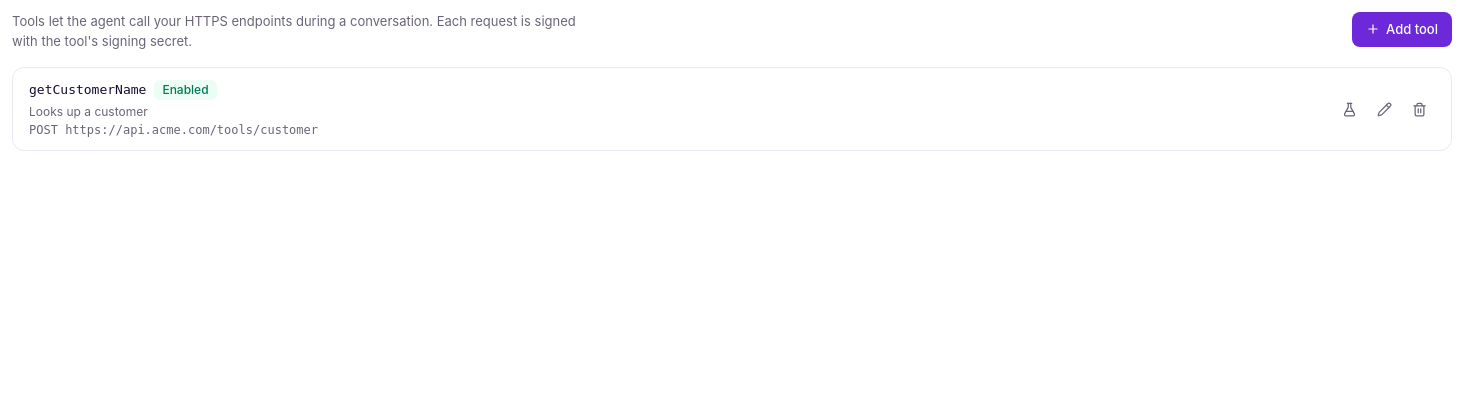
Test: ToolsPanel test call › refuses arguments that are not a JSON object
The image size is (1464, 406).
Click the button named "Test getCustomerName" at point(1350, 109), box [1334,94,1365,124]
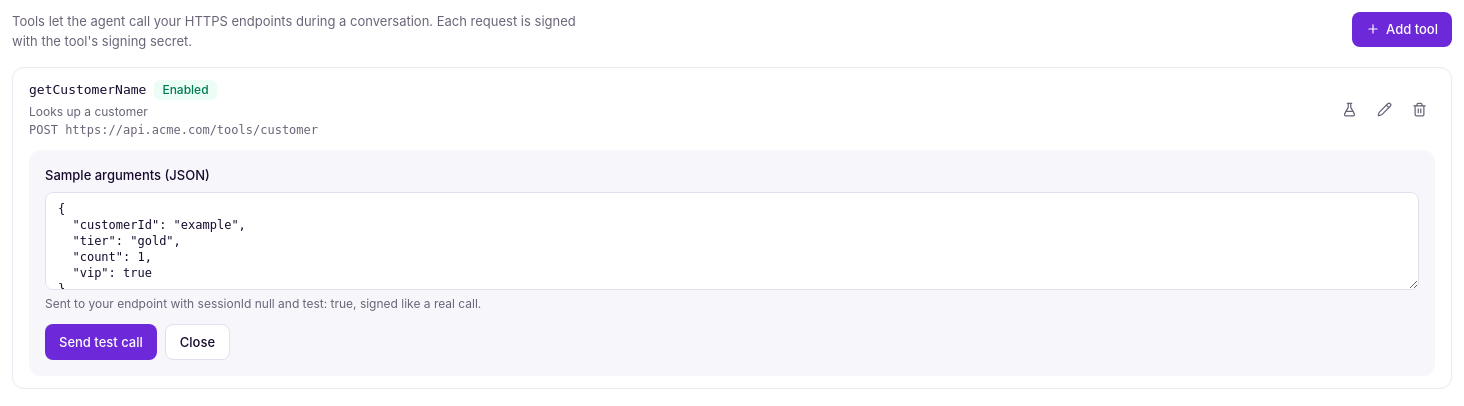
Replace the text in the text box labelled "Sample arguments (JSON)" with "[1]" at point(732, 240), box [45,192,1419,290]
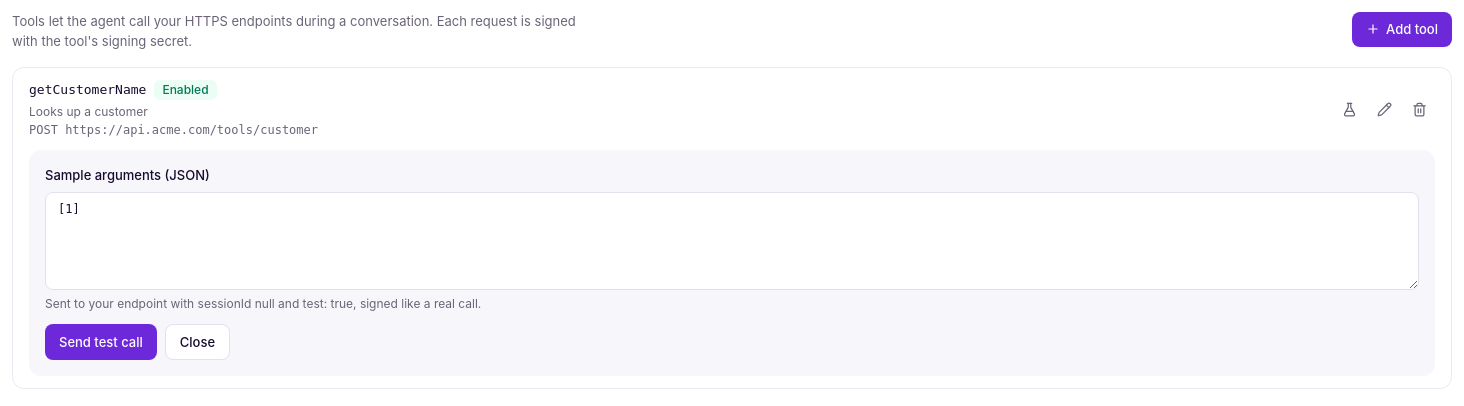
Click the button "Send test call" at point(101, 342), box [45,324,157,360]
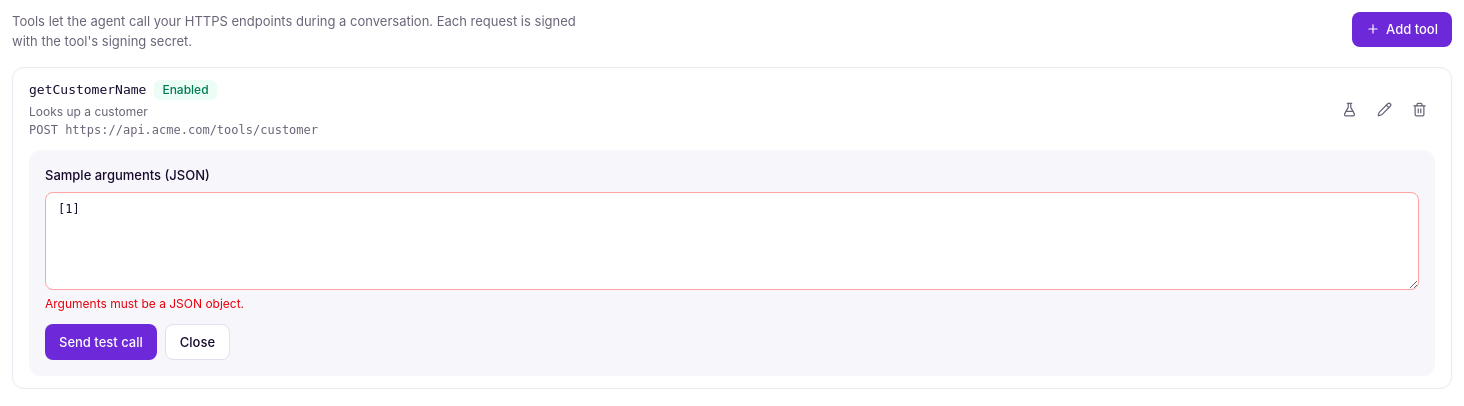
Expected: the text "Arguments must be a JSON object." is shown, [45,296,244,310]
